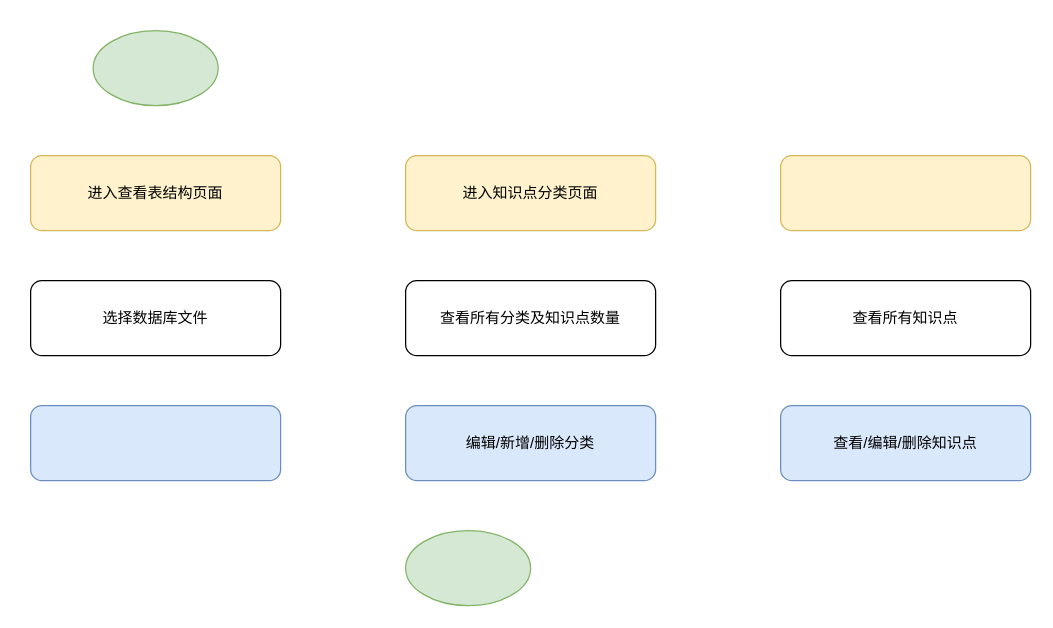
This 1053x628 diagram has some shape labels left out. The box of each missing label's shape, as (x1, y1, x2, y2) in pixels:
后端返回表结构数据: (29, 404, 281, 481)
开始: (92, 29, 218, 106)
结束: (404, 529, 531, 606)
进入知识点管理页面: (779, 154, 1031, 231)
